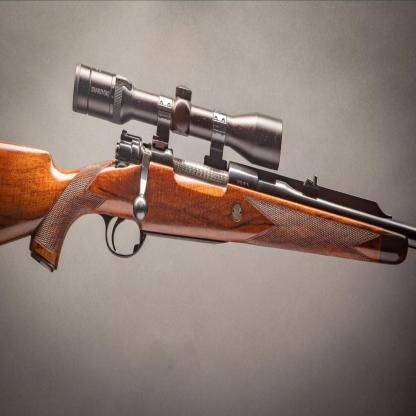rifle: (0, 63, 415, 294)
